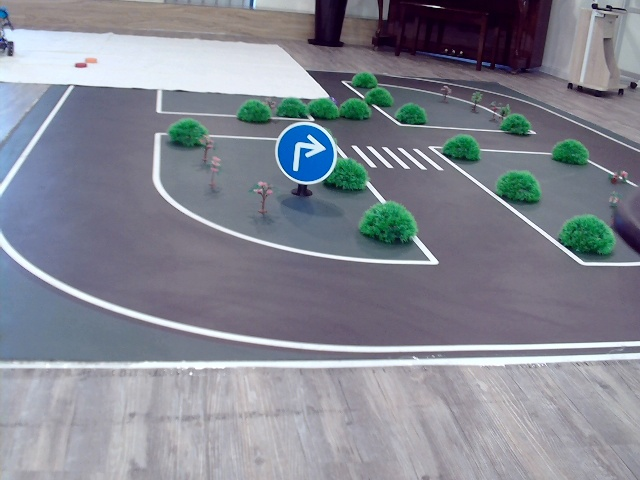turn_right: (285, 131, 325, 170)
